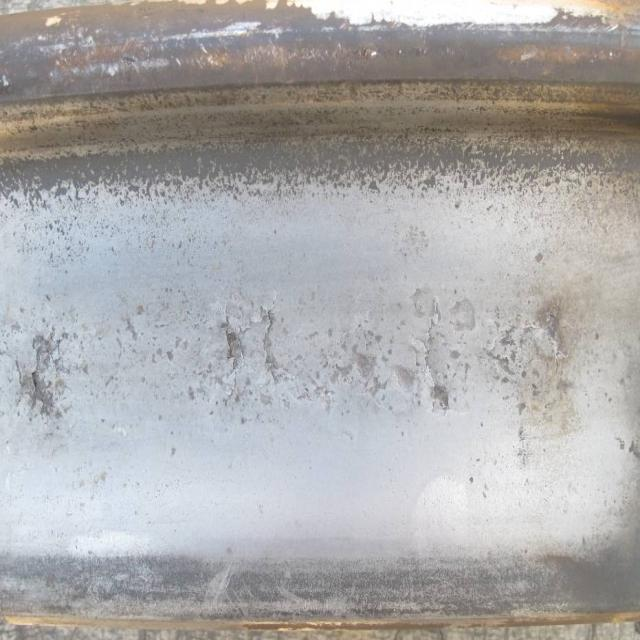Contact_Fatigue_Cracks: (486, 299, 578, 431), (216, 294, 289, 415), (407, 294, 464, 435), (303, 343, 388, 411), (10, 325, 66, 422)
